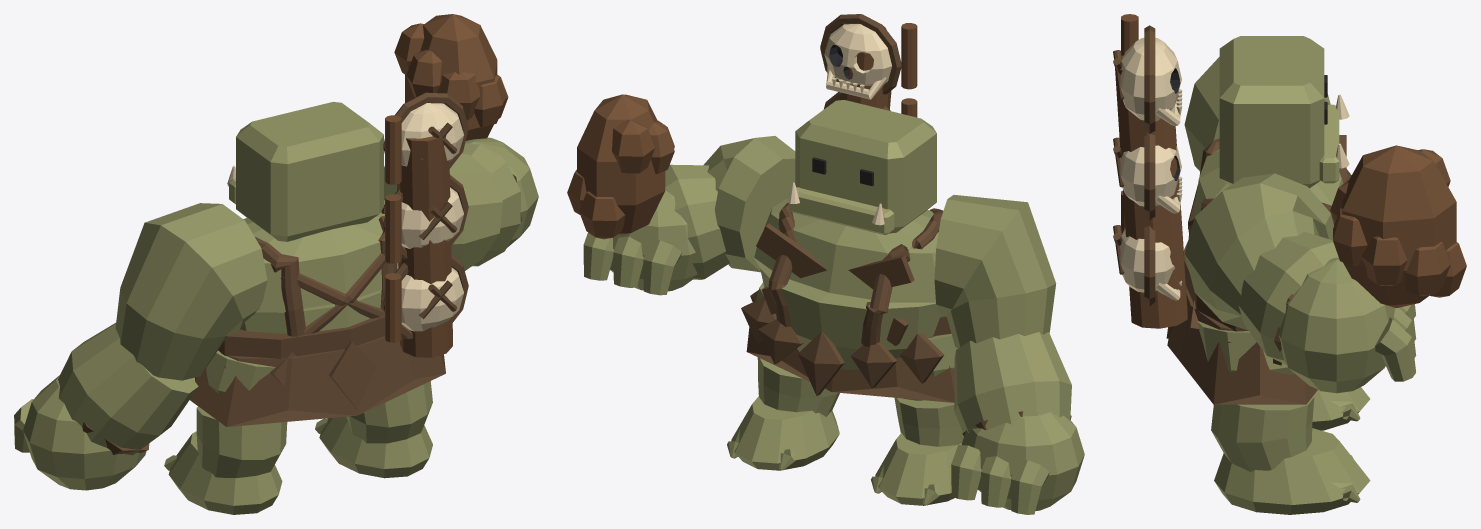
The model's file is host_17.glb.
The picture shows the model from 3 angles, left to right: view 1: azimuth 30°, elevation 25°; view 2: azimuth 150°, elevation 25°; view 3: azimuth 270°, elevation 25°; orthographic projection. The views are drawn at different scales.
Parts seen in each view (by area): view 1: V6 source anatomical upper arm L, Observed face, Leather ragged skirt, V6 source anatomical forearm L, V6 source anatomical thorax, V6 source anatomical palm L, V6 totem actual shaped strapped rear skull actual carved cra (×3), V6 totem source contacting irregular wood spine, V6 source anatomical shin L, V6 source anatomical bare foot L, V6 totem source actual long uneven gnarled wood club mass, V6 source anatomical bare foot R (+20 smaller); view 2: V6 source anatomical upper arm L, V6 source anatomical thorax, Observed face, V6 source anatomical forearm L, V6 source anatomical upper arm R, V6 totem source actual long uneven gnarled wood club mass, V6 source anatomical palm L, V6 source anatomical bare foot R, V6 source anatomical forearm R, Leather ragged skirt, V6 source anatomical bare foot L, V6 totem actual shaped strapped rear skull actual carved cra (+27 smaller); view 3: Observed face, V6 source anatomical upper arm R, V6 source anatomical palm R, V6 totem source actual long uneven gnarled wood club mass, V6 source anatomical bare foot R, V6 totem actual shaped strapped rear skull actual carved cra (×3), Leather ragged skirt, V6 totem source contacting irregular wood spine, V6 source anatomical forearm R, V6 source anatomical shin R, V6 source anatomical upper arm L, V6 totem club contacting natural wood knot.001 (+13 smaller).
Boxes of the visible parts, x1,y1,x2,y2 form: V6 source anatomical upper arm L: (115, 203, 267, 380); Observed face: (236, 101, 383, 241); Leather ragged skirt: (189, 336, 445, 426); V6 source anatomical forearm L: (58, 322, 198, 455); V6 source anatomical thorax: (241, 200, 398, 333); V6 source anatomical palm L: (23, 375, 146, 490); V6 totem actual shaped strapped rear skull actual carved cra (×3): (401, 103, 463, 331); V6 totem source contacting irregular wood spine: (397, 135, 452, 357); V6 source anatomical shin L: (196, 406, 287, 478); V6 source anatomical bare foot L: (168, 431, 282, 514); V6 totem source actual long uneven gnarled wood club mass: (405, 14, 497, 140); V6 source anatomical bare foot R: (319, 416, 432, 478); V6 source anatomical upper arm L: (934, 195, 1056, 348); V6 source anatomical thorax: (754, 198, 942, 369); Observed face: (795, 100, 936, 233); V6 source anatomical forearm L: (954, 332, 1071, 433); V6 source anatomical upper arm R: (703, 136, 795, 272); V6 totem source actual long uneven gnarled wood club mass: (577, 94, 665, 234); V6 source anatomical palm L: (961, 412, 1084, 510); V6 source anatomical bare foot R: (731, 396, 839, 470); V6 source anatomical forearm R: (665, 164, 729, 279); Leather ragged skirt: (746, 327, 954, 402); V6 source anatomical bare foot L: (875, 433, 961, 505); V6 totem actual shaped strapped rear skull actual carved cra: (824, 24, 891, 85); Observed face: (1219, 36, 1324, 188); V6 source anatomical upper arm R: (1184, 173, 1333, 330); V6 source anatomical palm R: (1278, 257, 1395, 393); V6 totem source actual long uneven gnarled wood club mass: (1342, 145, 1456, 307); V6 source anatomical bare foot R: (1214, 428, 1370, 514); V6 totem actual shaped strapped rear skull actual carved cra (×3): (1120, 37, 1181, 292); Leather ragged skirt: (1167, 286, 1317, 404); V6 totem source contacting irregular wood spine: (1115, 55, 1187, 328); V6 source anatomical forearm R: (1238, 231, 1338, 364); V6 source anatomical shin R: (1211, 396, 1314, 471); V6 source anatomical upper arm L: (1184, 57, 1330, 171); V6 totem club contacting natural wood knot.001: (1405, 242, 1450, 296).
Bounding box in the file's own units: 1.93 × 1.51 × 1.06.
